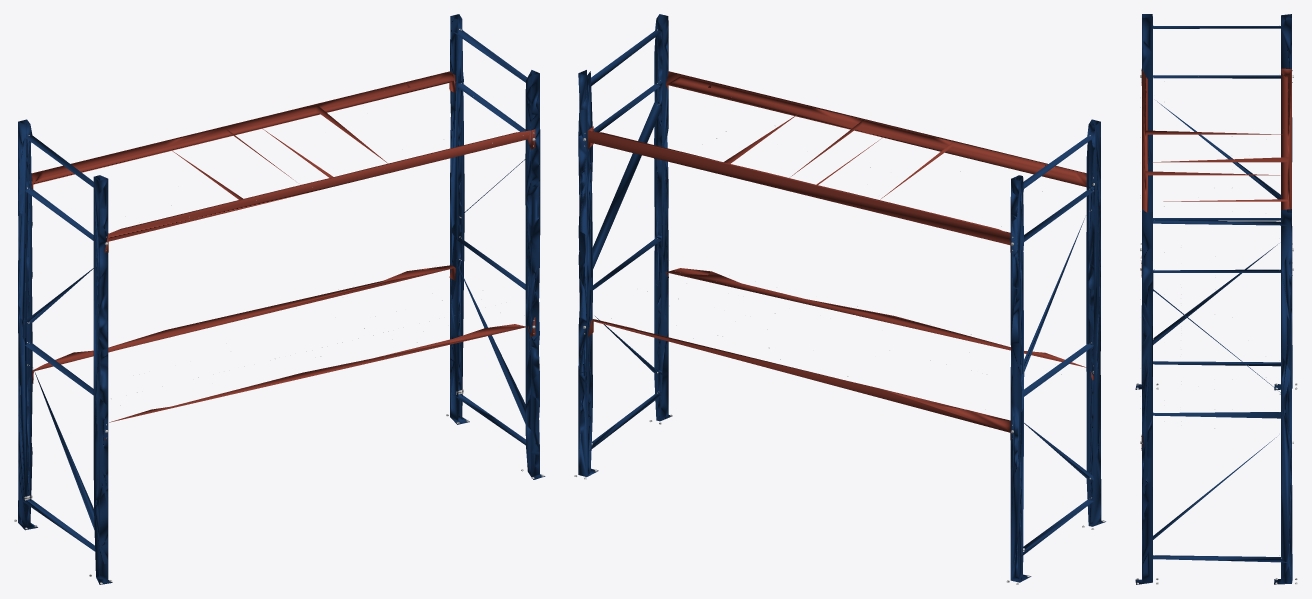
Rendered from rack_far.glb.
3 renders of one model, left to right at view 1: azimuth 30°, elevation 25°; view 2: azimuth 150°, elevation 25°; view 3: azimuth 270°, elevation 25°, orthographic. The views are drawn at different scales.
Visible parts, largest first — view 1: sm_rack_h3m_s01_mesh_00; view 2: sm_rack_h3m_s01_mesh_00; view 3: sm_rack_h3m_s01_mesh_00.
Part boxes in pixels (x1,y1,x2,y2): sm_rack_h3m_s01_mesh_00: (14,14,545,584); sm_rack_h3m_s01_mesh_00: (574,14,1105,584); sm_rack_h3m_s01_mesh_00: (1135,14,1297,584).
Size of the model in its own units: 3.48 by 3 by 1.19.
